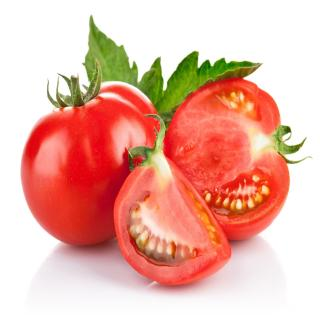Tomat: (21, 59, 160, 248), (164, 78, 313, 242), (114, 114, 233, 287)
